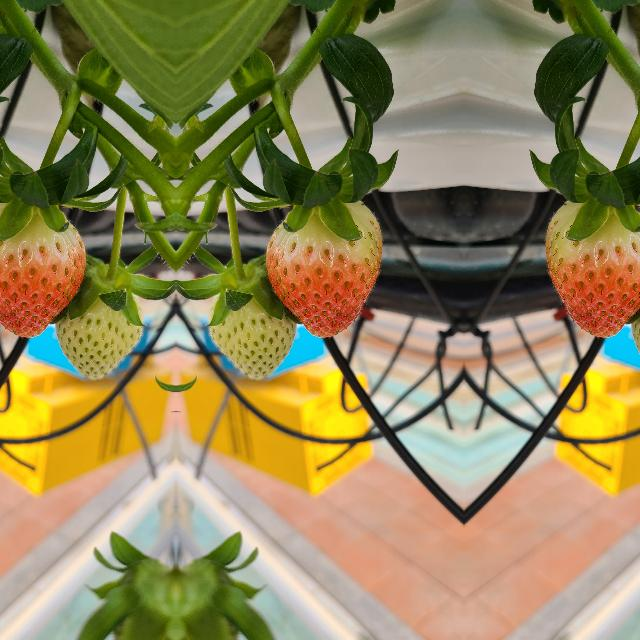Health_25: (210, 266, 298, 380), (52, 266, 140, 380)
Health_75: (262, 200, 383, 340), (542, 200, 640, 340), (0, 200, 87, 340)
